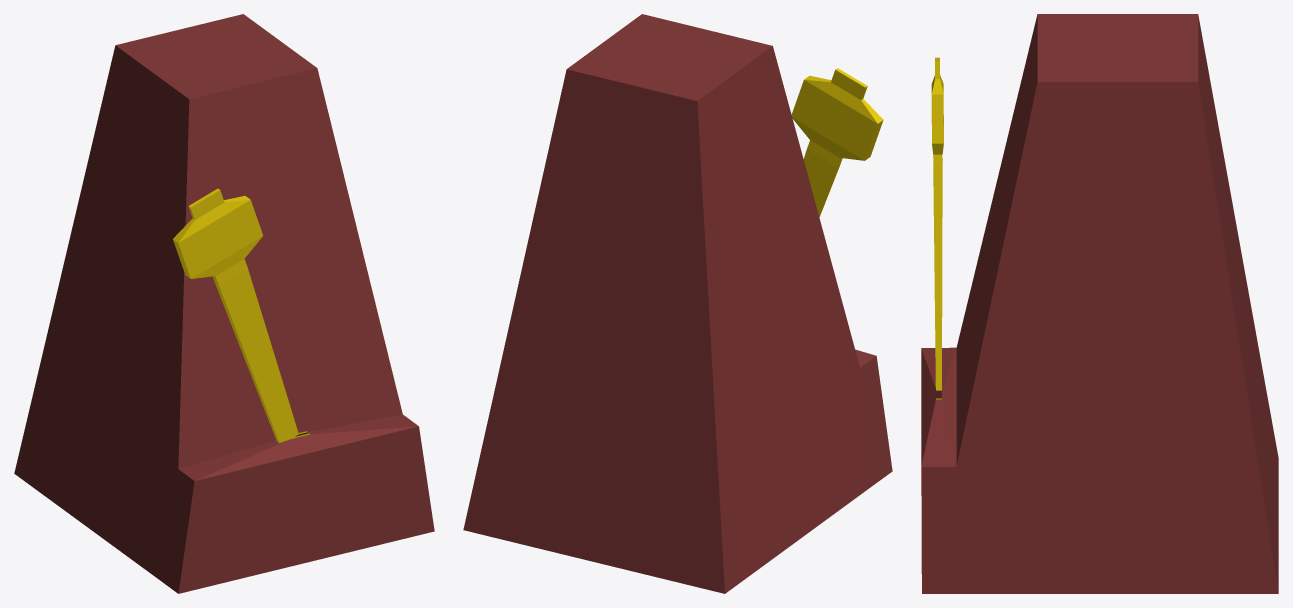
File: metronom.fbx
3 views of the same model, side by side, from view 1: azimuth 30°, elevation 25°; view 2: azimuth 150°, elevation 25°; view 3: azimuth 270°, elevation 25° (orthographic). The views are drawn at different scales.
Visible parts, largest first — view 1: Cube, Pendel, Gewicht; view 2: Cube, Gewicht, Pendel; view 3: Cube, Pendel, Gewicht.
Part boxes in pixels (<box>): Cube: <box>14,14,434,593</box>; Pendel: <box>188,188,298,442</box>; Gewicht: <box>173,196,263,278</box>; Cube: <box>463,14,892,593</box>; Gewicht: <box>791,75,883,160</box>; Pendel: <box>803,68,867,217</box>; Cube: <box>921,14,1278,593</box>; Pendel: <box>933,57,942,390</box>; Gewicht: <box>931,75,943,154</box>.
Bounding box in the file's own units: 200 × 328 × 222.
